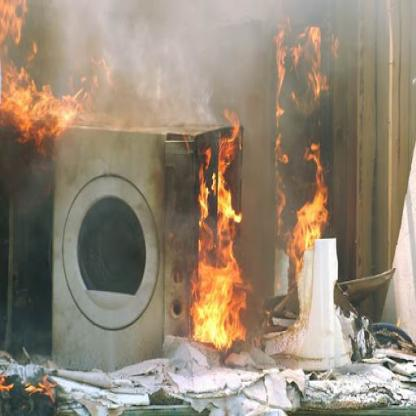fire: (183, 108, 248, 364), (269, 24, 343, 234), (0, 0, 93, 143), (296, 137, 338, 269)
smoke: (39, 0, 405, 323)
